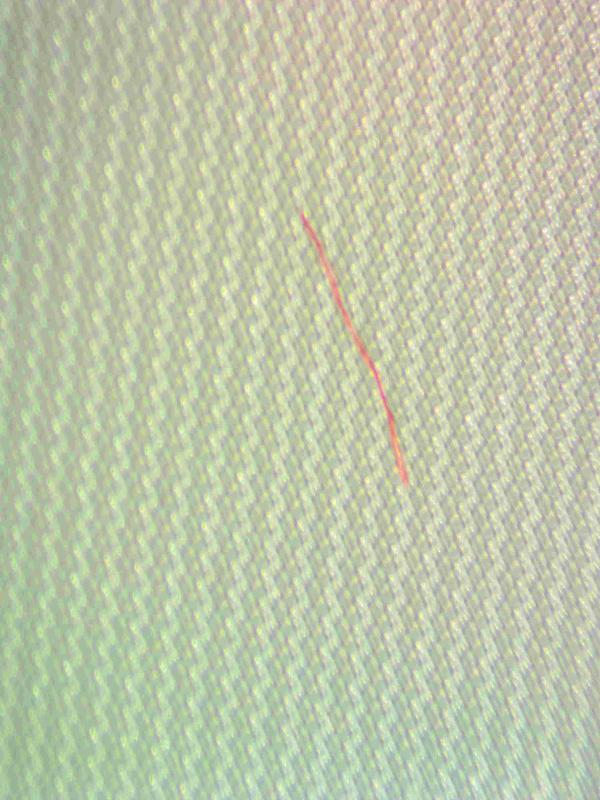microplastic: (1, 1, 599, 798), (298, 208, 410, 491)
